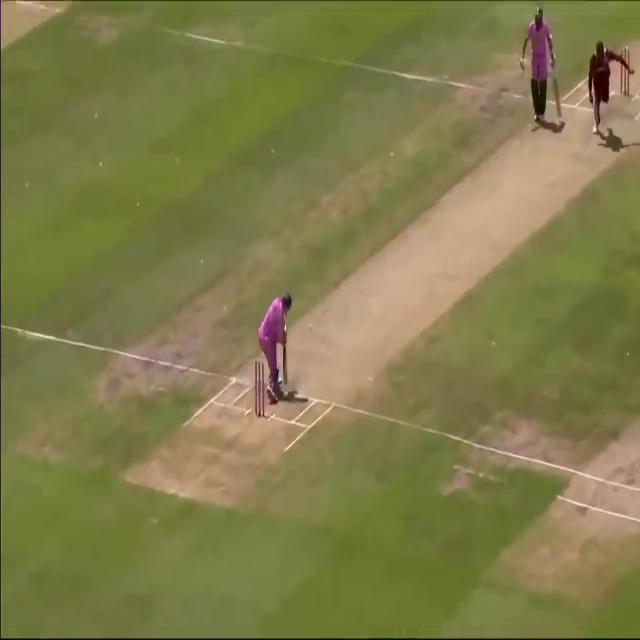Ball: (517, 7, 569, 132), (253, 284, 302, 408)
Fielder: (585, 39, 630, 148)
